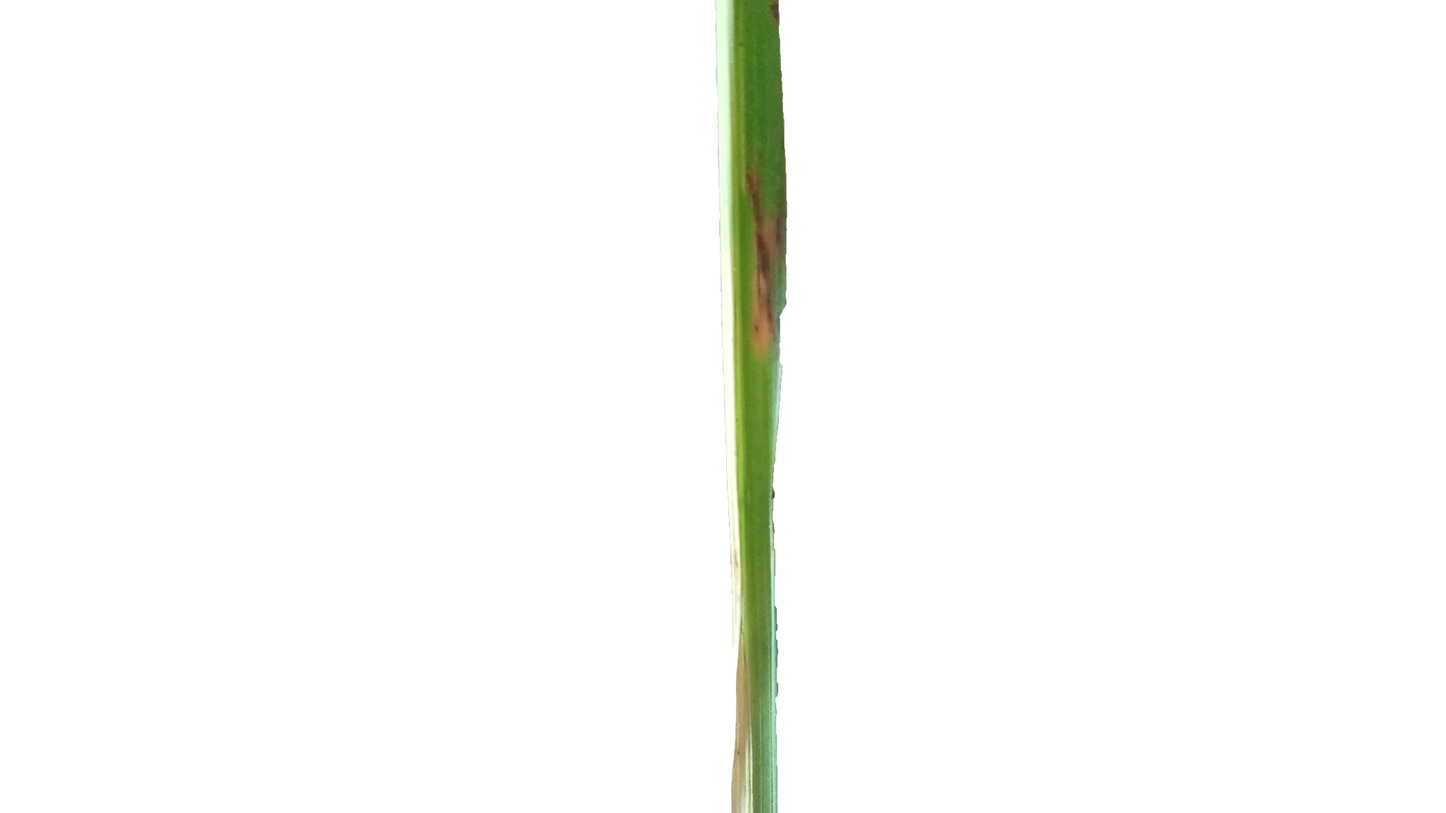Rice blast: (741, 159, 777, 370)
